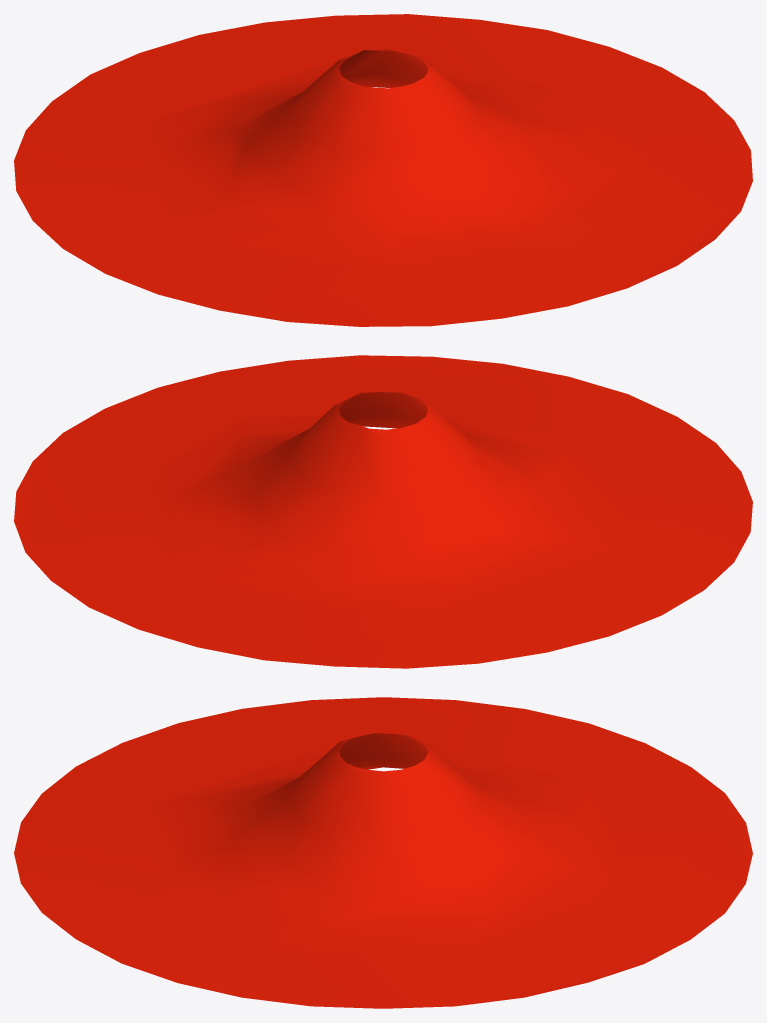
File: Prefab_Xmas_Tree_Skirt_C.glb
3 renders of one model, top to bottom at view 1: azimuth 30°, elevation 25°; view 2: azimuth 150°, elevation 25°; view 3: azimuth 270°, elevation 25°, orthographic.
Visible parts, largest first — view 1: Skirt_C; view 2: Skirt_C; view 3: Skirt_C.
Boxes of the visible parts, x1=… form: Skirt_C: x1=14, y1=14, x2=752, y2=326; Skirt_C: x1=14, y1=355, x2=752, y2=668; Skirt_C: x1=14, y1=697, x2=752, y2=1008.
Bounding box in the file's own units: 1.83 × 0.2822 × 1.83.
